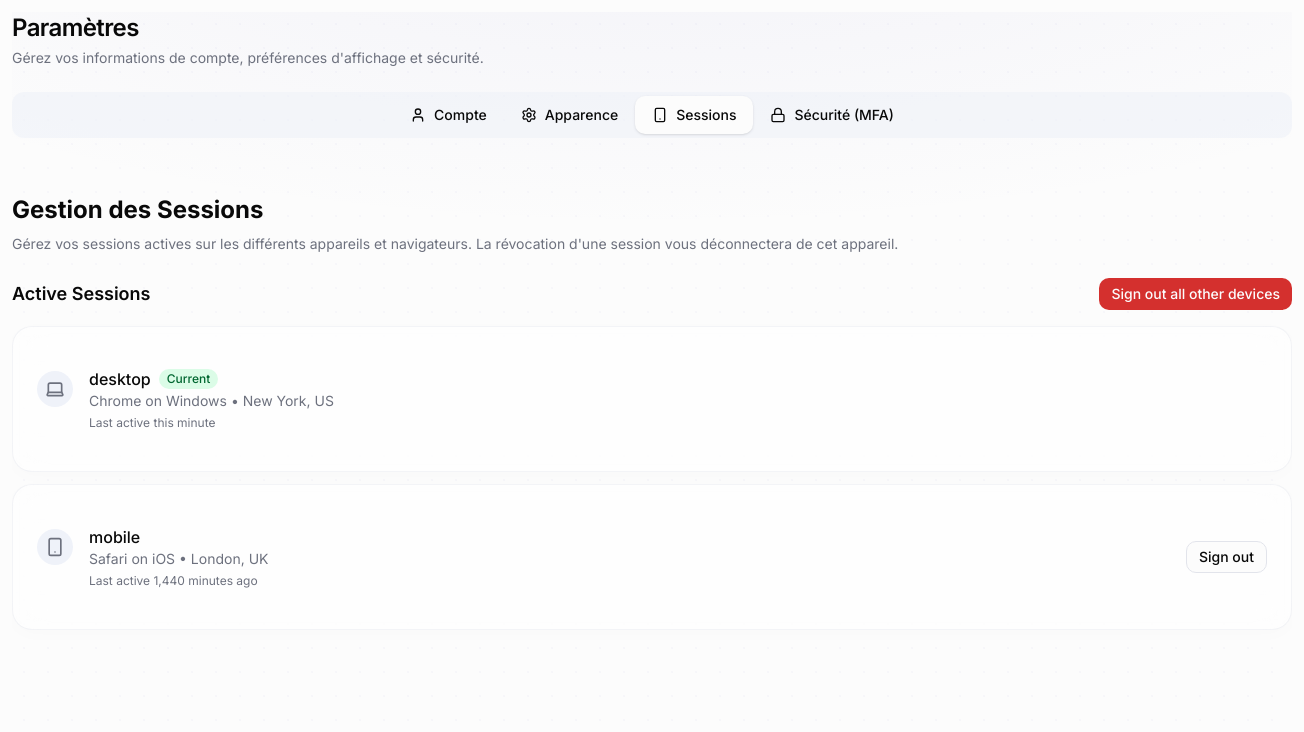
Scenario: SessionsPage › handles session revocation
The image size is (1304, 732).
Check: the text "Safari on iOS • London, UK" is shown, box x1=89 y1=549 x2=268 y2=569
Click the button "Sign out": x=1226, y=557 x1=1186 y1=541 x2=1267 y2=573
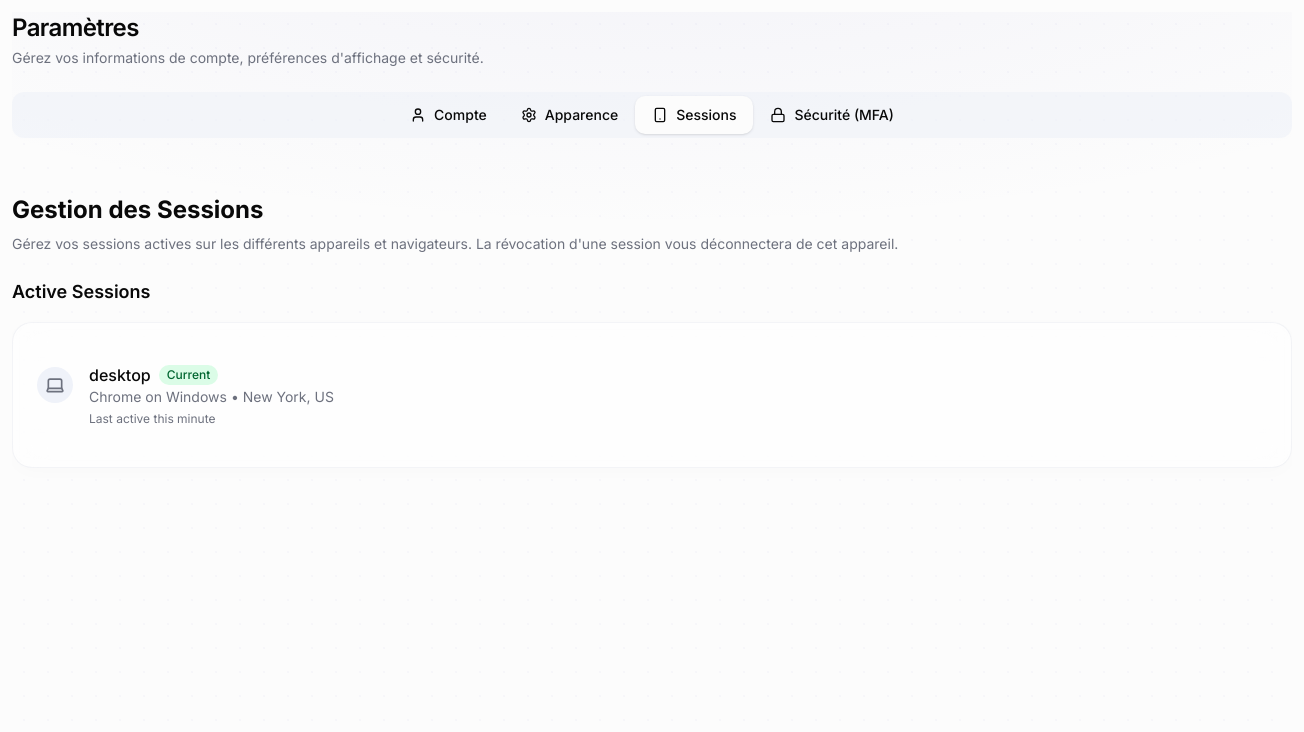
Check: the text "Safari" is gone
